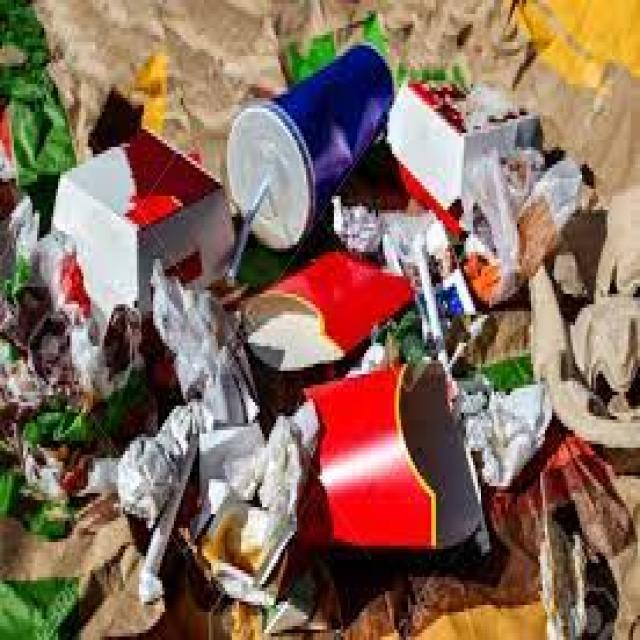giay: (155, 262, 260, 428), (121, 402, 202, 530), (463, 378, 554, 488), (260, 402, 320, 516), (573, 299, 640, 393)
ly_hop_giay: (299, 364, 485, 551), (53, 133, 234, 317), (390, 87, 543, 233), (243, 252, 415, 372)
nhua: (227, 45, 394, 275)
